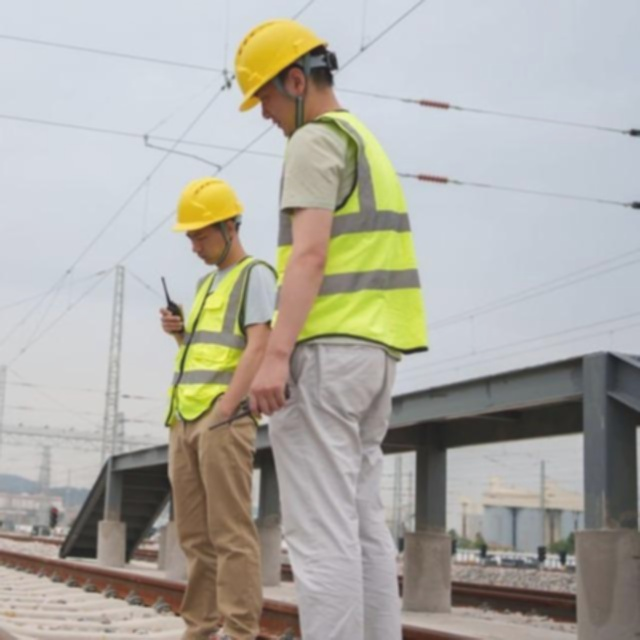Con_Casco: (233, 13, 337, 139), (173, 174, 245, 260)
Con_Chaleco: (272, 114, 420, 348), (167, 256, 273, 428)
